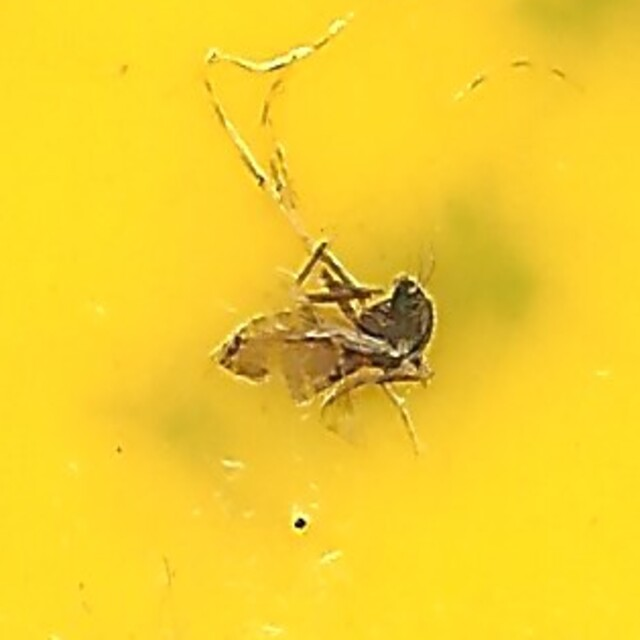Nematocera: (203, 225, 437, 415)
